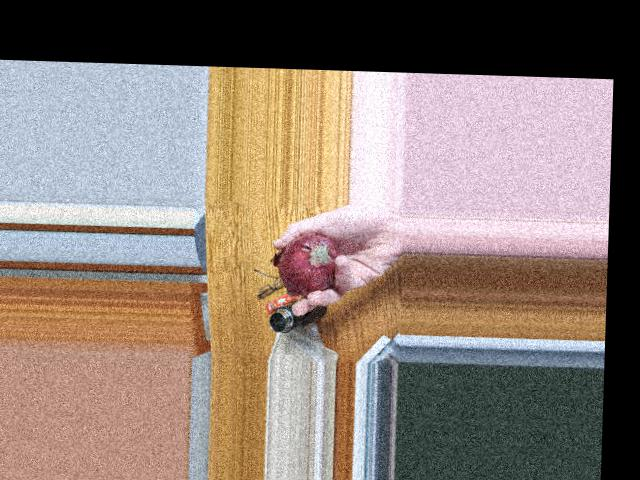onion: (283, 231, 341, 296)
